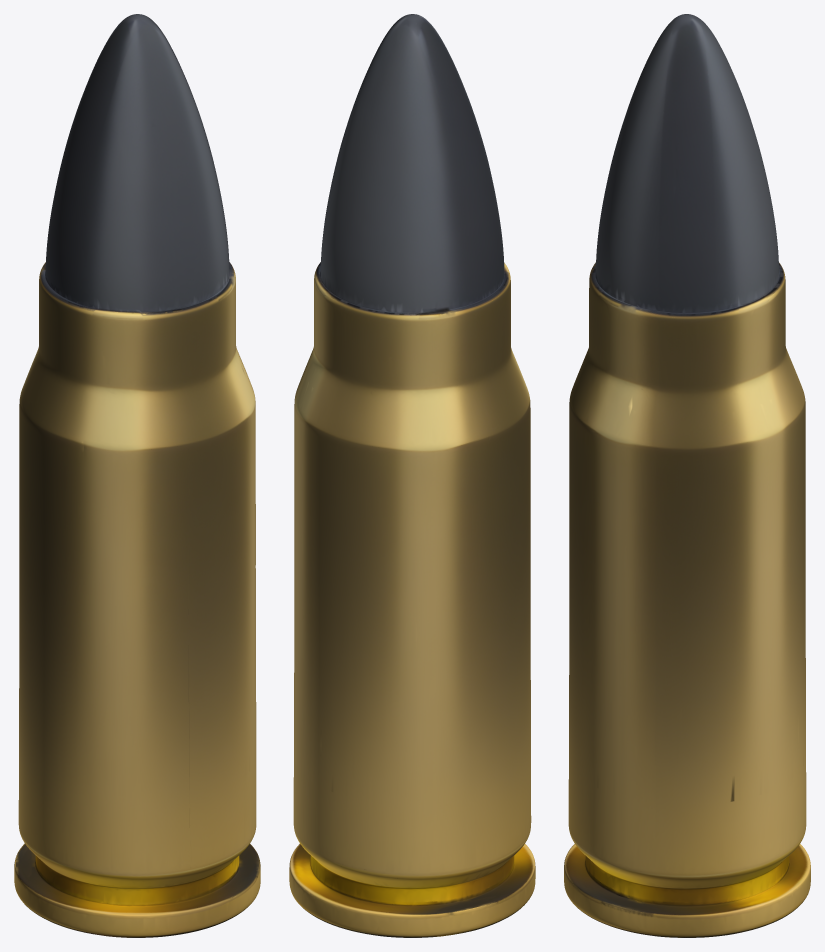
File: 机枪子弹.glb
3 renders of one model, left to right at view 1: azimuth 30°, elevation 25°; view 2: azimuth 150°, elevation 25°; view 3: azimuth 270°, elevation 25°, orthographic.
Parts seen in each view (by area): view 1: node_0; view 2: node_0; view 3: node_0.
Part boxes in pixels (<box>): node_0: <box>14,14,260,937</box>; node_0: <box>289,14,535,937</box>; node_0: <box>564,14,810,937</box>.
Bounding box in the file's own units: 0.2987 × 1.17 × 0.2998.
Materials: 1 (1 with a texture image).
